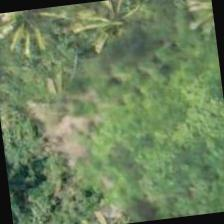Kelapa_Sawit: (69, 0, 166, 58), (0, 5, 73, 64)
